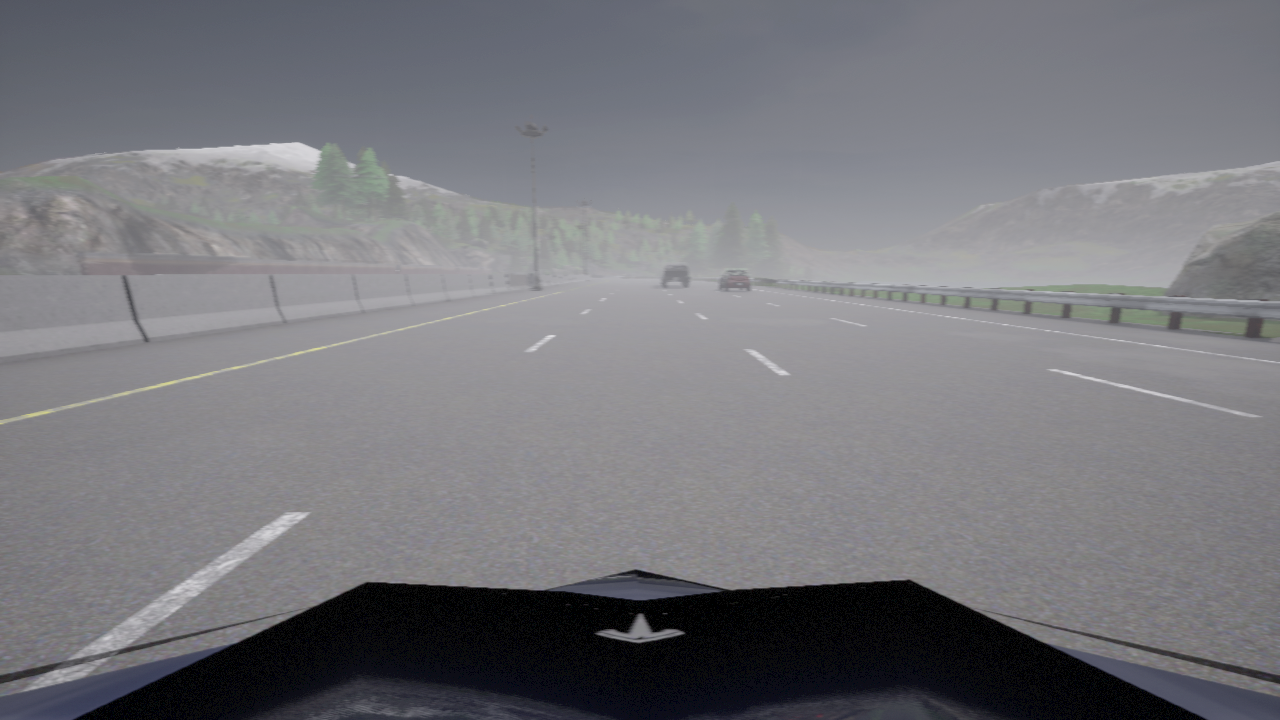cyclist: (0, 569, 1279, 719), (718, 270, 750, 291), (661, 264, 688, 286)
